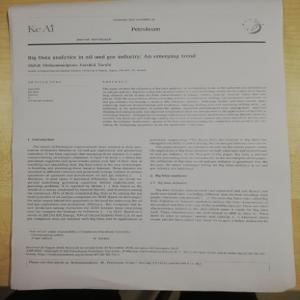image: (240, 13, 264, 37)
text: (24, 143, 145, 220), (99, 84, 270, 129), (146, 134, 270, 173), (24, 242, 265, 262), (147, 186, 273, 223), (25, 51, 199, 60), (125, 23, 163, 33)
